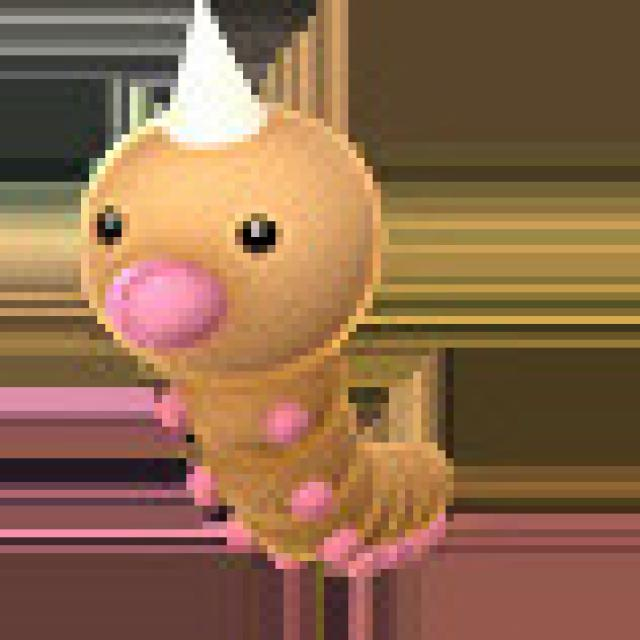Weedle: (76, 0, 484, 583)
